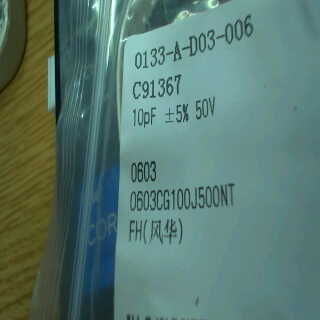10pF: (127, 103, 158, 133)
